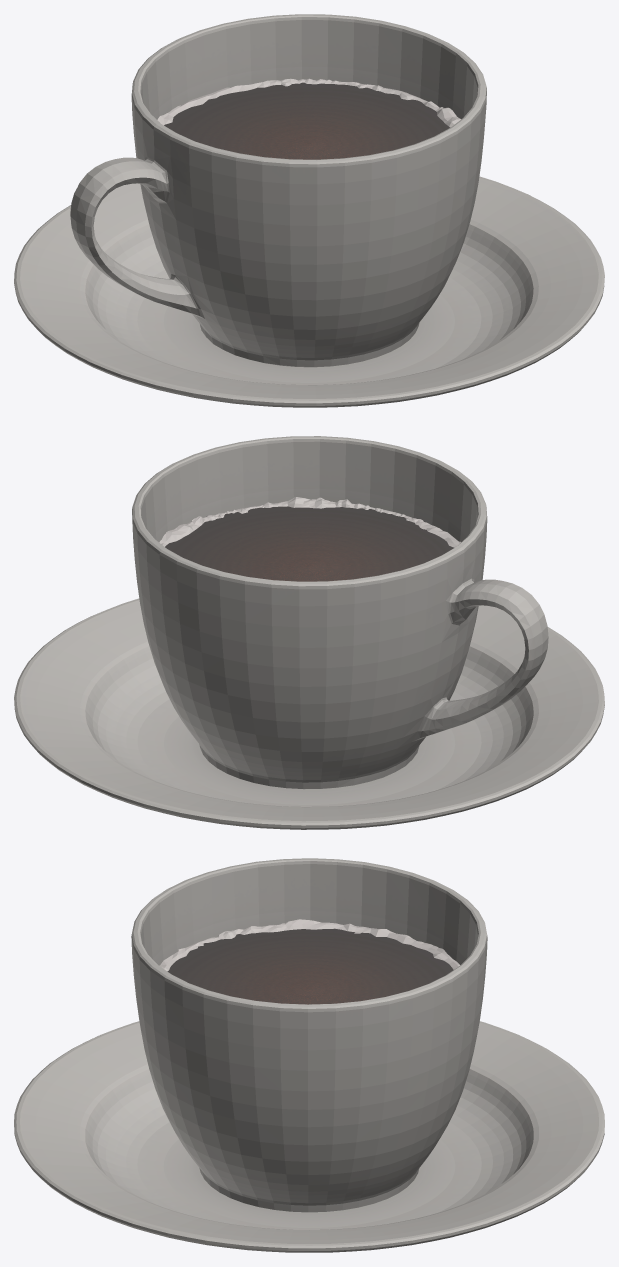
The model's file is CupofBlackCoffee.glb.
The picture shows the model from 3 angles, top to bottom: view 1: azimuth 30°, elevation 25°; view 2: azimuth 150°, elevation 25°; view 3: azimuth 270°, elevation 25°; orthographic projection.
Bounding box in the file's own units: 0.3252 × 0.1455 × 0.3251.
1 material, 1 textured.
